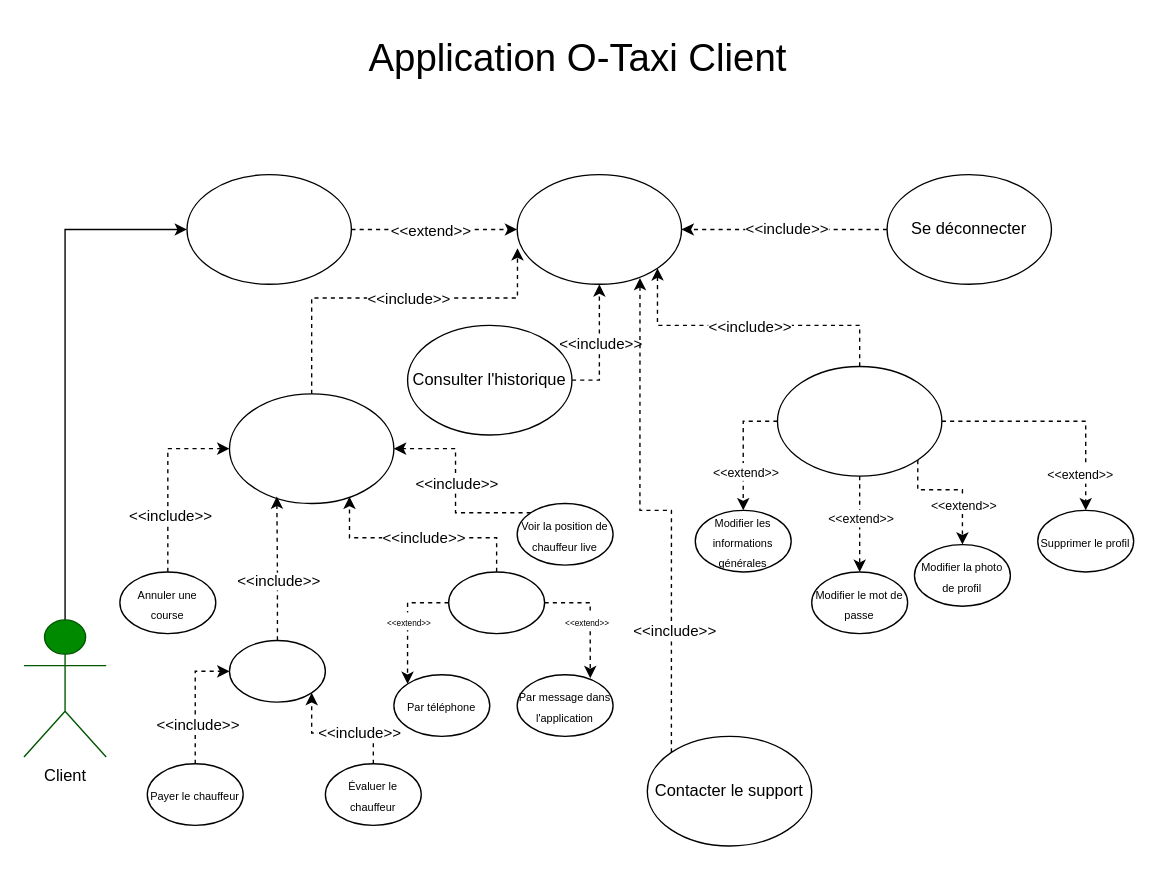
The diagram is 1158 pixels wide and 870 high, and some of its shapes have lost their labels. Here are the shapes that lost their labels. From the top down, the centre of each, then its label:
the point at 268,228: S'inscrire
the point at 599,228: S'authentifier
the point at 859,420: Gérer le profil
the point at 311,448: Réserver une course
the point at 496,602: Contacter le chauffeur
the point at 276,670: Terminer une course
